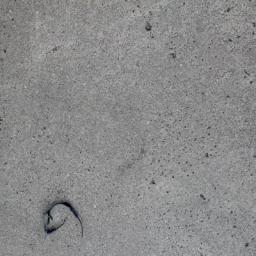FOD: (37, 199, 91, 241)
